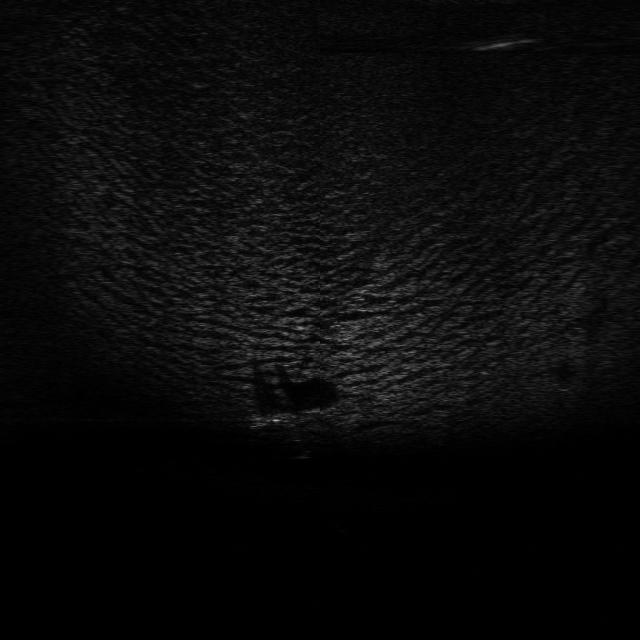plane: (247, 406, 333, 432)
